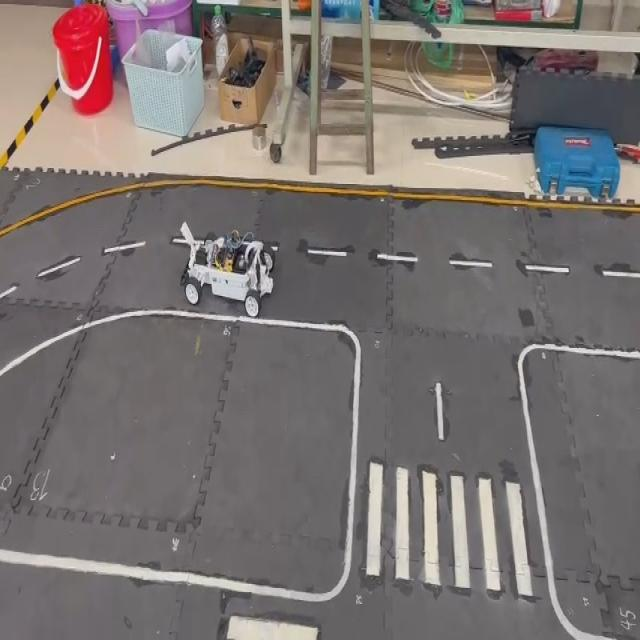SiCo-CAR: (170, 218, 278, 318)
